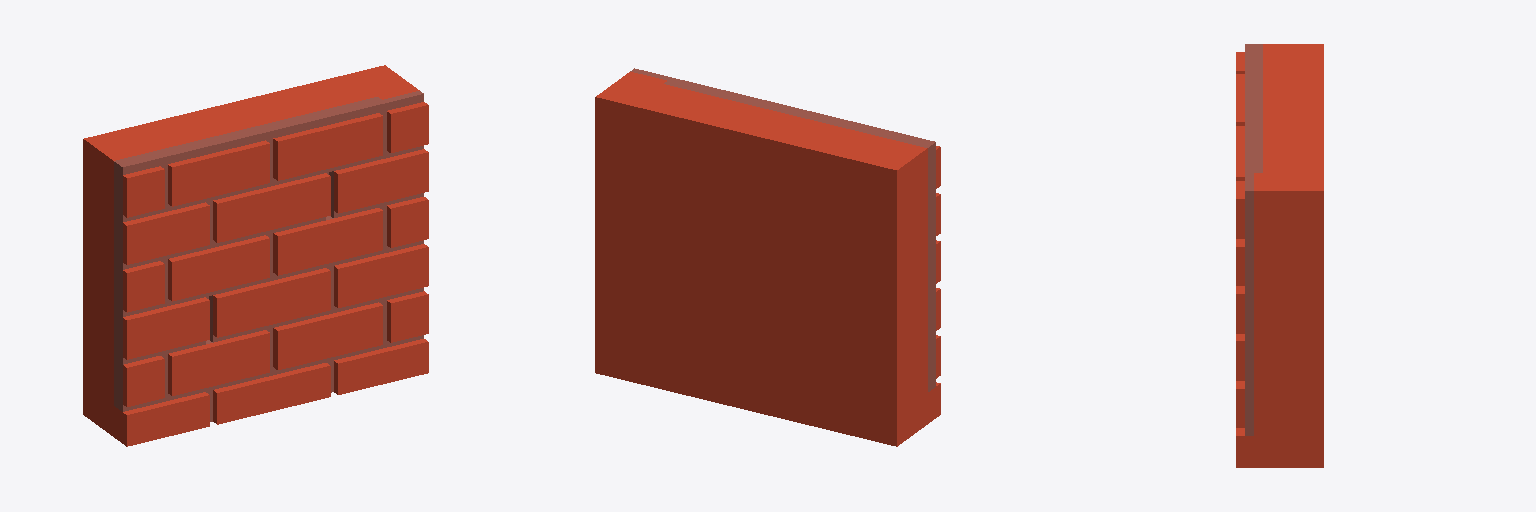
The picture shows the model from 3 angles: view 1: azimuth 30°, elevation 25°; view 2: azimuth 150°, elevation 25°; view 3: azimuth 270°, elevation 25°; orthographic projection.
Parts seen in each view (by area): view 1: object 1; view 2: object 1; view 3: object 1.
Boxes of the visible parts, x1,y1,x2,y2 form: object 1: [83, 65, 428, 446]; object 1: [595, 68, 940, 446]; object 1: [1236, 44, 1323, 467].
Bounding box in the file's own units: 4 × 3.5 × 1.
1 materials, 1 textured.